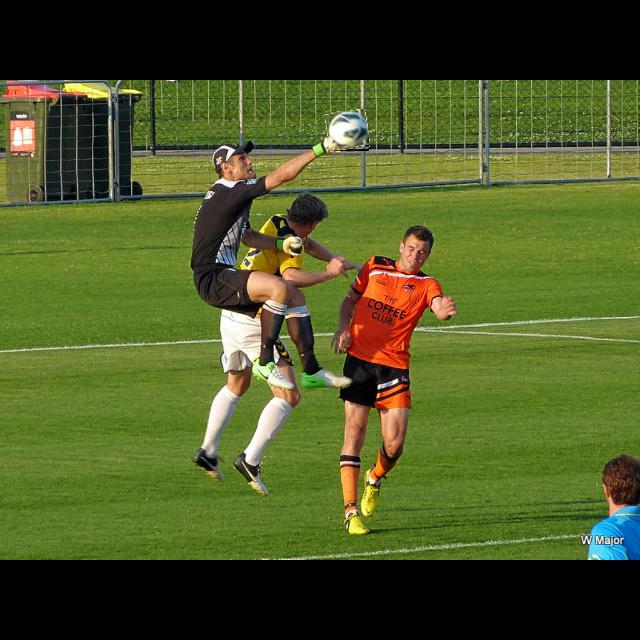Football: (327, 111, 369, 151)
